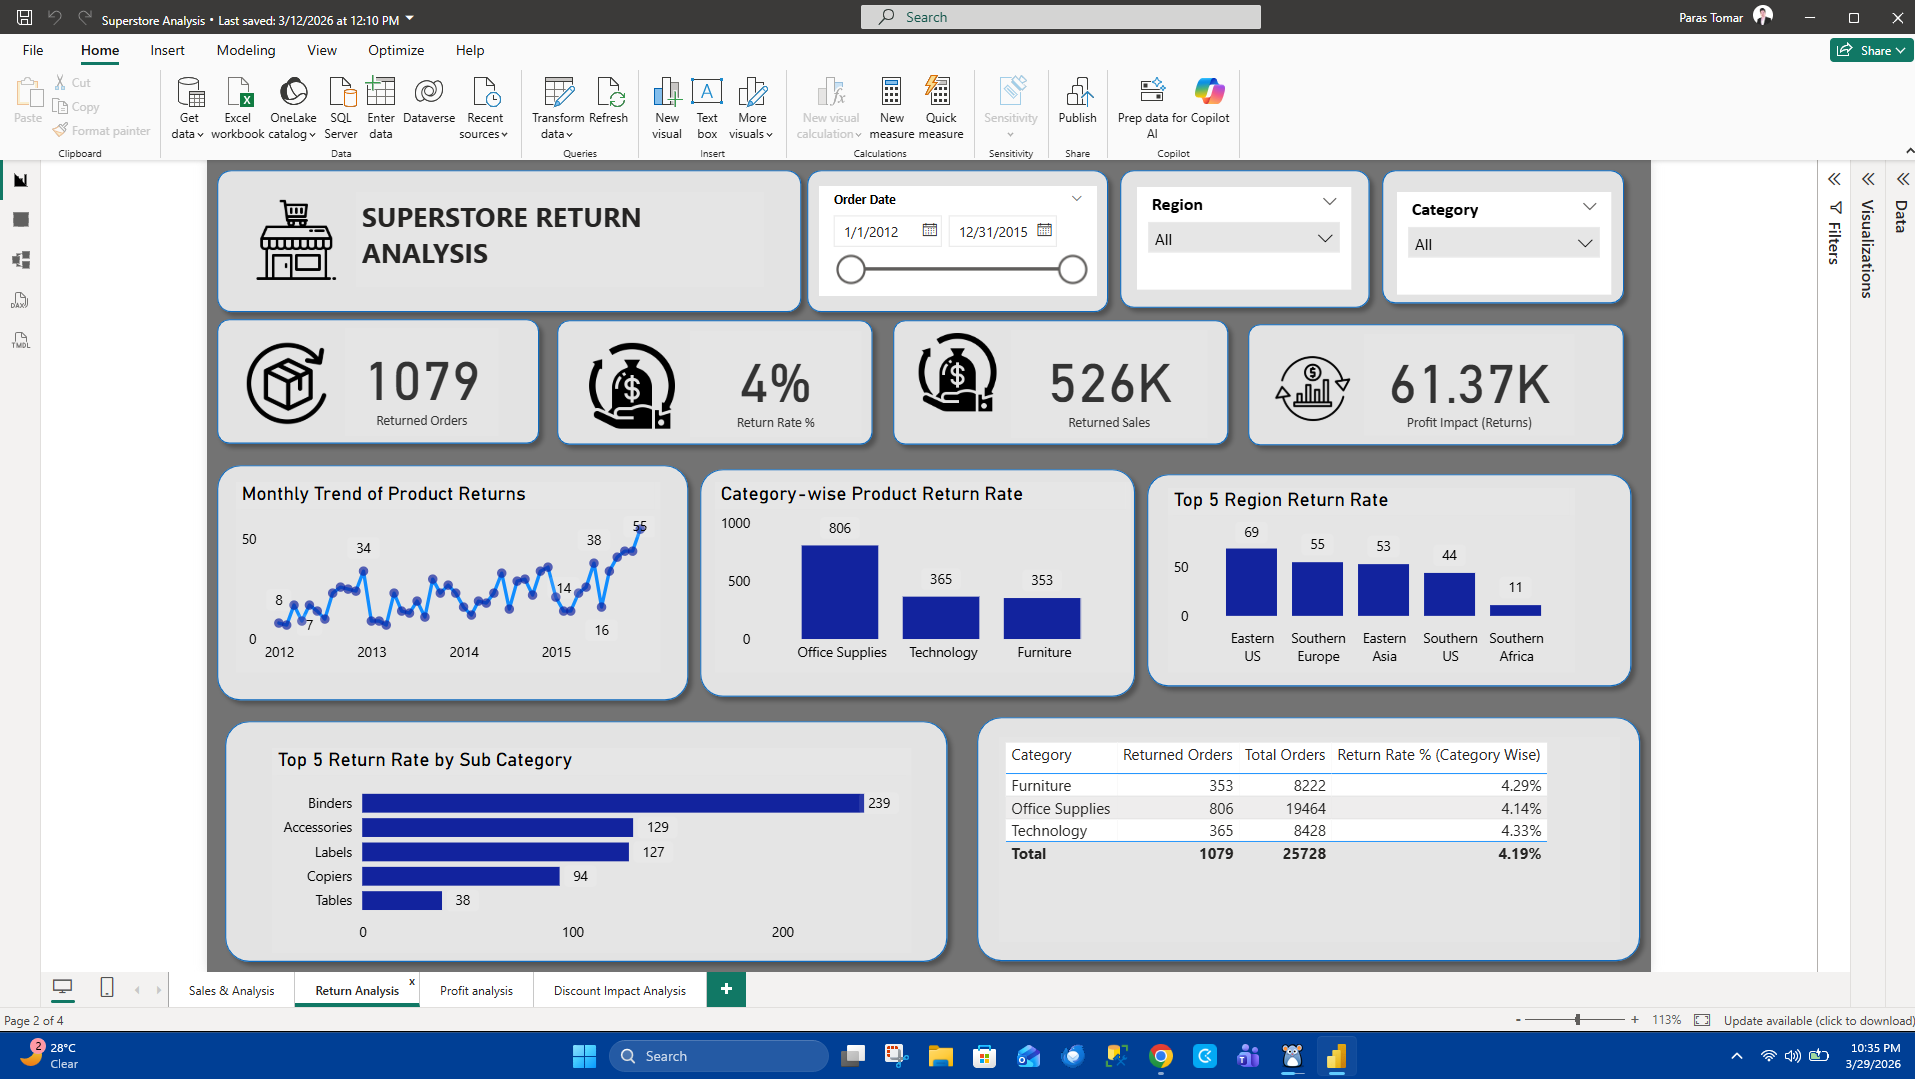

Layout of this report page (visuals, bound fields, positions):
{"tool":"powerbi","page":{"name":"Return Analysis","canvas":[1280,720],"ordinal":1},"visuals":[{"type":"shape","box":[0,0,535.9,144],"z":0},{"type":"image","box":[25.3,29.2,107,82.7],"z":1000},{"type":"textbox","box":[132.3,28.2,361.8,83.6],"z":2000},{"type":"shape","box":[914.3,136.2,351.1,125.5],"z":3000},{"type":"shape","box":[800.5,0,239.3,140.1],"z":4000},{"type":"shape","box":[523.3,0,285,144],"z":5000},{"type":"slicer","fields":{"Values":["Order Table.Region"]},"box":[824.8,24.3,189.7,91.4],"z":6000},{"type":"slicer","fields":{"Values":["Order Table.Category"]},"box":[1055.3,38.9,187.7,72.9],"z":7000},{"type":"slicer","fields":{"Values":["Order Table.Order Date"]},"box":[542.7,23.3,246.1,97.3],"z":8000},{"type":"shape","box":[1032.9,0,232.5,136.2],"z":9000},{"type":"slicer","fields":{"Values":["Order Table.Category"]},"box":[1055.3,28.2,189.7,91.4],"z":10000},{"type":"shape","box":[0,132.3,303.5,128.4],"z":11000},{"type":"shape","box":[301.5,133.3,297.6,128.4],"z":12000},{"type":"shape","box":[599.1,133.3,315.1,128.4],"z":13000},{"type":"shape","box":[0,261.6,435.7,226.6],"z":14000},{"type":"shape","box":[824.8,269.4,447.4,206.2],"z":15000},{"type":"shape","box":[428,265.5,403.6,219.8],"z":16000},{"type":"shape","box":[6.8,488.3,658.5,231.5],"z":17000},{"type":"card","fields":{"Values":["Order Table.Returned Orders"]},"box":[122.6,148.8,136.2,96.3],"z":18000},{"type":"image","box":[25.3,150.8,87.5,93.4],"z":19000},{"type":"image","box":[325.8,151.7,102.1,97.3],"z":20000},{"type":"card","fields":{"Values":["Order Table.Returned Sales"]},"box":[712.9,150.8,174.1,96.3],"z":21000},{"type":"image","box":[617.6,144,95.3,88.5],"z":22000},{"type":"card","fields":{"Values":["Order Table.Return Profit Loss"]},"box":[1026.1,154.7,186.7,90.5],"z":23000},{"type":"image","box":[935.7,158.5,90.5,87.5],"z":24000},{"type":"lineChart","title":"Monthly Trend of Product Returns","fields":{"Category":["Date Table.Date.Variation.Date Hierarchy.Year","Date Table.Date.Variation.Date Hierarchy.Month"],"Y":["Order Table.Returned Orders"]},"box":[25.3,286,376.4,169.2],"z":25000},{"type":"card","fields":{"Values":["Order Table.Return Rate %"]},"box":[428,151.7,151.7,94.3],"z":26000},{"type":"columnChart","title":"Returned Orders by Category","fields":{"Category":["Order Table.Category"],"Y":["Order Table.Returned Orders"]},"box":[450.3,286,368.6,169.2],"z":27000},{"type":"clusteredColumnChart","title":"Top 5 Regions by Returned Orders","fields":{"Category":["Order Table.Region"],"Y":["Order Table.Returned Orders"]},"box":[852,290.8,360.9,164.4],"z":28000},{"type":"clusteredBarChart","title":"Top 5 Sub-Categories by Returned Orders","fields":{"Category":["Order Table.Sub Category"],"Y":["Order Table.Returned Orders"]},"box":[57.4,521.3,567.1,181.9],"z":29000},{"type":"shape","box":[674,485.3,606,234.4],"z":30000},{"type":"tableEx","fields":{"Values":["Order Table.Category","Order Table.Returned Orders","Order Table.Total Orders","Order Table.Return Rate % (Category Wise)"]},"box":[702.2,511.6,551.5,181.9],"z":31000}]}

Visuals, with their boxes on the page's 1280x720 design canvas (x1, y1, x2, y2). These are canvas units, not pixel positions in the 1915x1079 screenshot, which may show the page scaled, cropped or inside an application window:
shape: x1=0, y1=0, x2=536, y2=144
image: x1=25, y1=29, x2=132, y2=112
textbox: x1=132, y1=28, x2=494, y2=112
shape: x1=914, y1=136, x2=1265, y2=262
shape: x1=800, y1=0, x2=1040, y2=140
shape: x1=523, y1=0, x2=808, y2=144
slicer - Order Table.Region: x1=825, y1=24, x2=1014, y2=116
slicer - Order Table.Category: x1=1055, y1=39, x2=1243, y2=112
slicer - Order Table.Order Date: x1=543, y1=23, x2=789, y2=121
shape: x1=1033, y1=0, x2=1265, y2=136
slicer - Order Table.Category: x1=1055, y1=28, x2=1245, y2=120
shape: x1=0, y1=132, x2=304, y2=261
shape: x1=302, y1=133, x2=599, y2=262
shape: x1=599, y1=133, x2=914, y2=262
shape: x1=0, y1=262, x2=436, y2=488
shape: x1=825, y1=269, x2=1272, y2=476
shape: x1=428, y1=266, x2=832, y2=485
shape: x1=7, y1=488, x2=665, y2=720
card - Order Table.Returned Orders: x1=123, y1=149, x2=259, y2=245
image: x1=25, y1=151, x2=113, y2=244
image: x1=326, y1=152, x2=428, y2=249
card - Order Table.Returned Sales: x1=713, y1=151, x2=887, y2=247
image: x1=618, y1=144, x2=713, y2=232
card - Order Table.Return Profit Loss: x1=1026, y1=155, x2=1213, y2=245
image: x1=936, y1=158, x2=1026, y2=246
"Monthly Trend of Product Returns" lineChart: x1=25, y1=286, x2=402, y2=455
card - Order Table.Return Rate %: x1=428, y1=152, x2=580, y2=246
"Returned Orders by Category" columnChart: x1=450, y1=286, x2=819, y2=455
"Top 5 Regions by Returned Orders" clusteredColumnChart: x1=852, y1=291, x2=1213, y2=455
"Top 5 Sub-Categories by Returned Orders" clusteredBarChart: x1=57, y1=521, x2=624, y2=703
shape: x1=674, y1=485, x2=1280, y2=720
tableEx - Order Table.Category x Order Table.Returned Orders: x1=702, y1=512, x2=1254, y2=694
